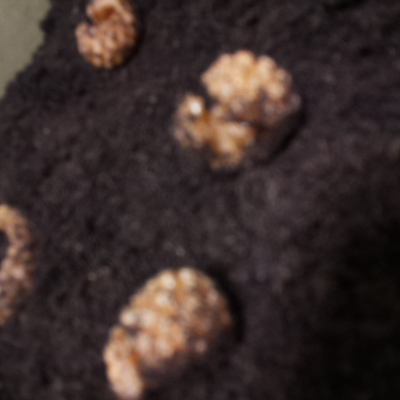eggs: (99, 261, 242, 400), (167, 49, 311, 181), (1, 197, 64, 334), (68, 1, 146, 72)
